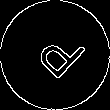P_SW: (24, 24, 86, 86)
